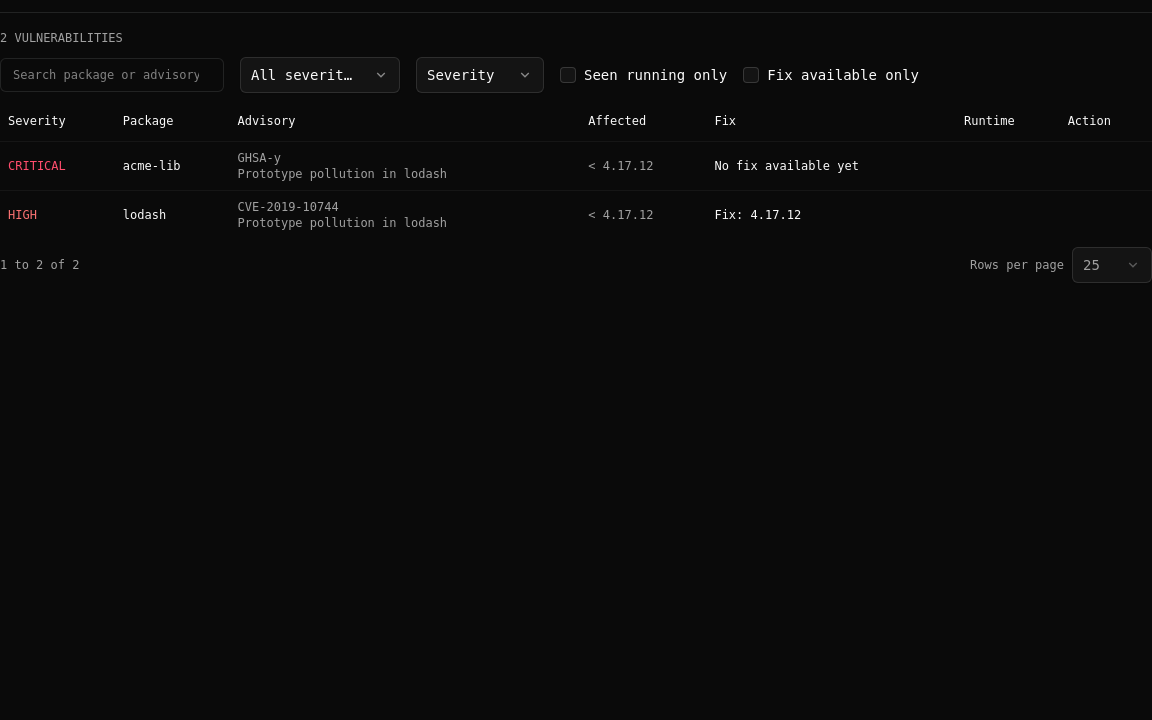
CveFindings table › narrows to one severity from the severity picker
Click the dropdown named "Severity": click(320, 75) [240,57,400,93]
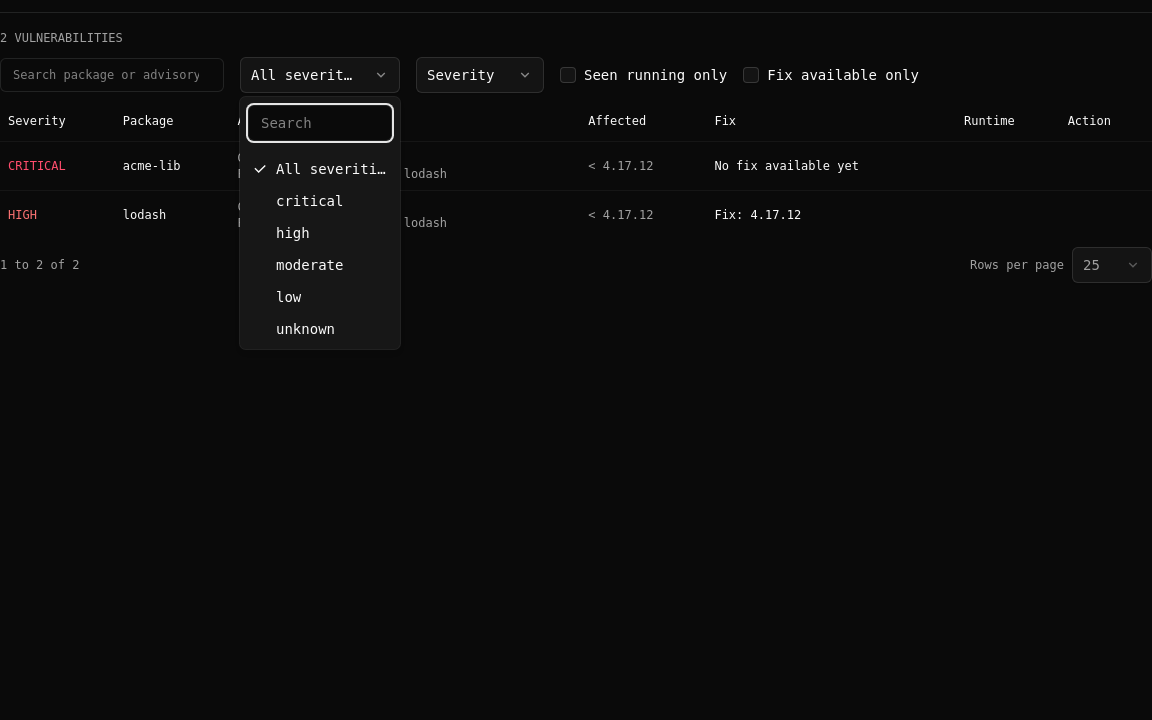
Click the option "critical": click(320, 201) [244,185,396,217]
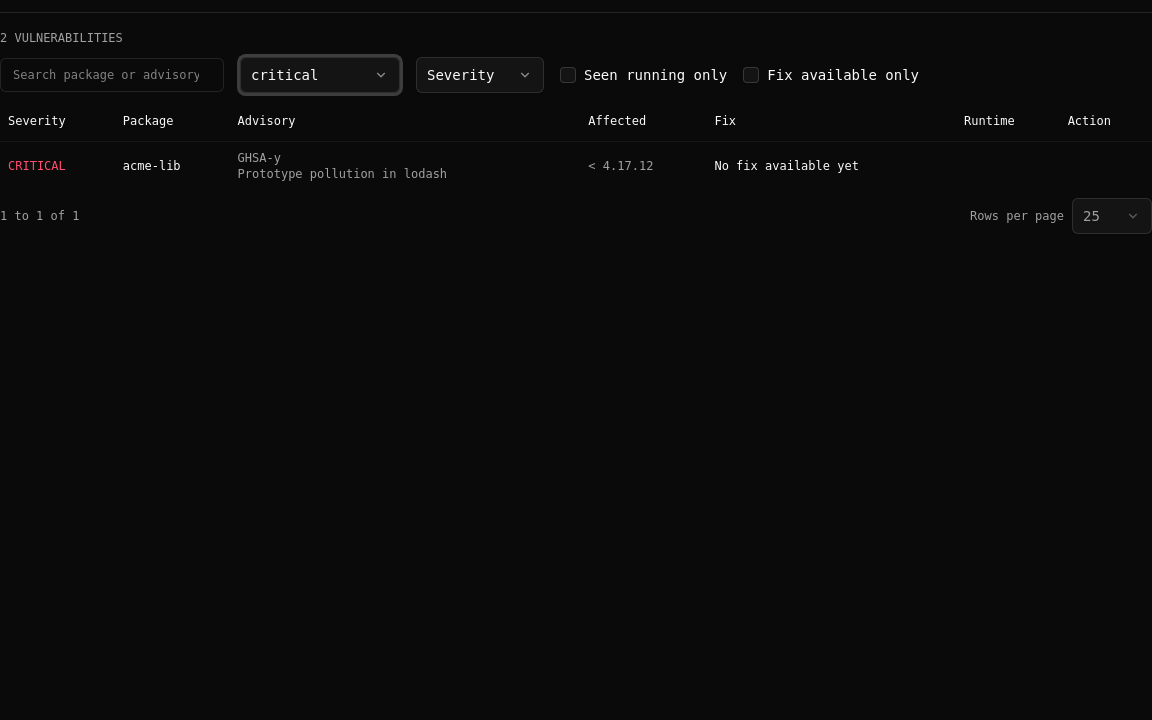
expect the text "acme-lib" is shown: met, box [123,158,181,172]
expect the text "1 to 1 of 1" is shown: met, box [0,208,80,224]
